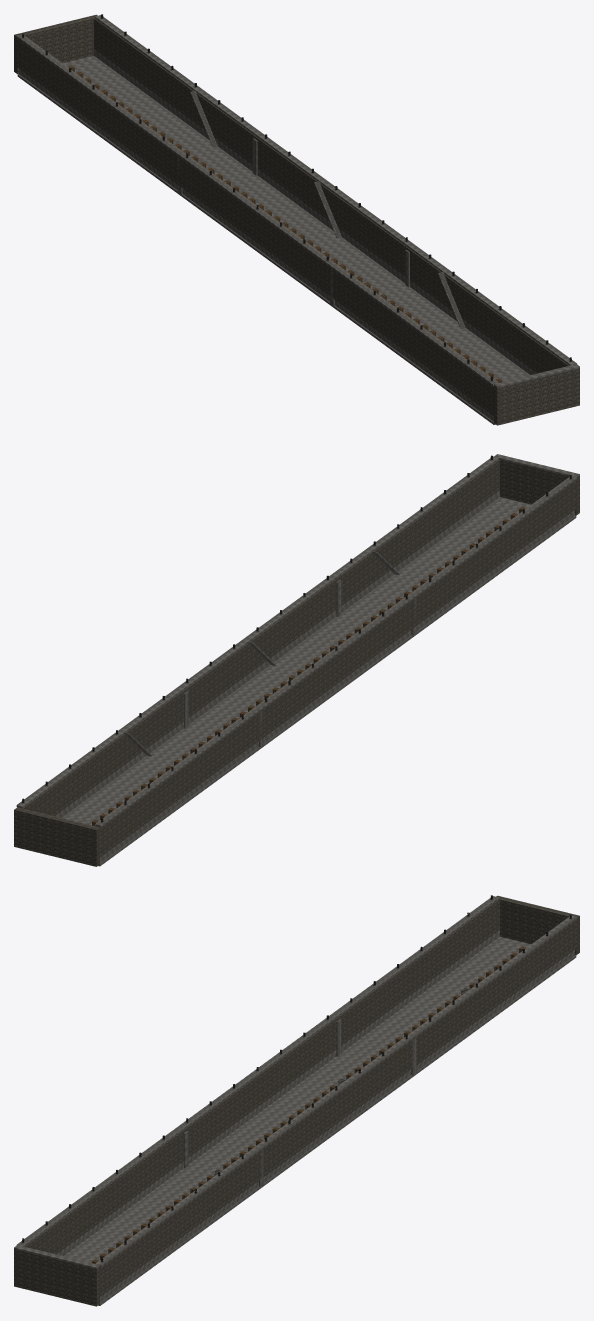
The model's file is B_princess_dock.glb.
The picture shows the model from 3 angles, top to bottom: view 1: azimuth 30°, elevation 25°; view 2: azimuth 150°, elevation 25°; view 3: azimuth 330°, elevation 25°; orthographic projection.
Parts seen in each view (by area): view 1: B_princess_dock; view 2: B_princess_dock; view 3: B_princess_dock.
Boxes of the visible parts, bbox=[...] form: B_princess_dock: bbox=[14, 14, 579, 425]; B_princess_dock: bbox=[14, 454, 579, 866]; B_princess_dock: bbox=[14, 895, 579, 1306].
Size of the model in its own units: 25 by 12.7 by 248.
4 materials, 4 textured.
